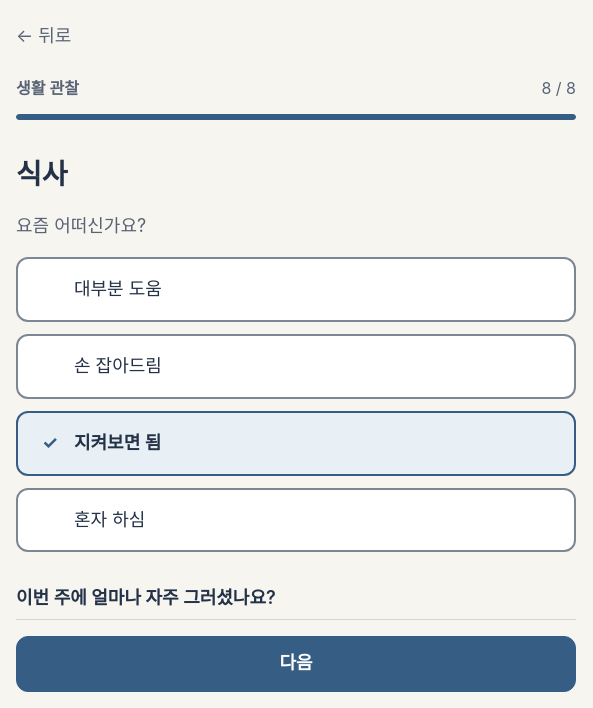
Scenario: 온보딩 기준선 › 마지막 항목을 넘기면 케이스를 만들고 복구 코드를 보여준다
The width and height of the screenshot is (593, 708).
Click the button "다음" at (296, 664), box [16,636,576,692]
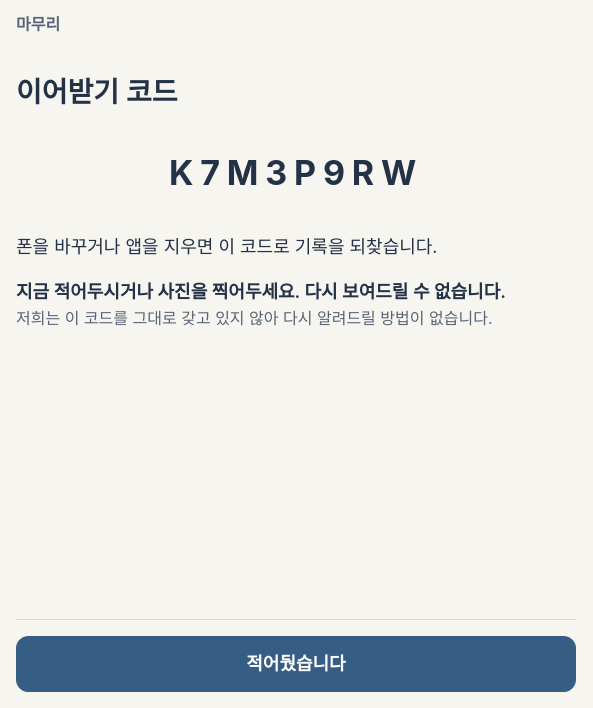
Now the text "K7M3P9RW" is shown, box [169,152,423,193]
